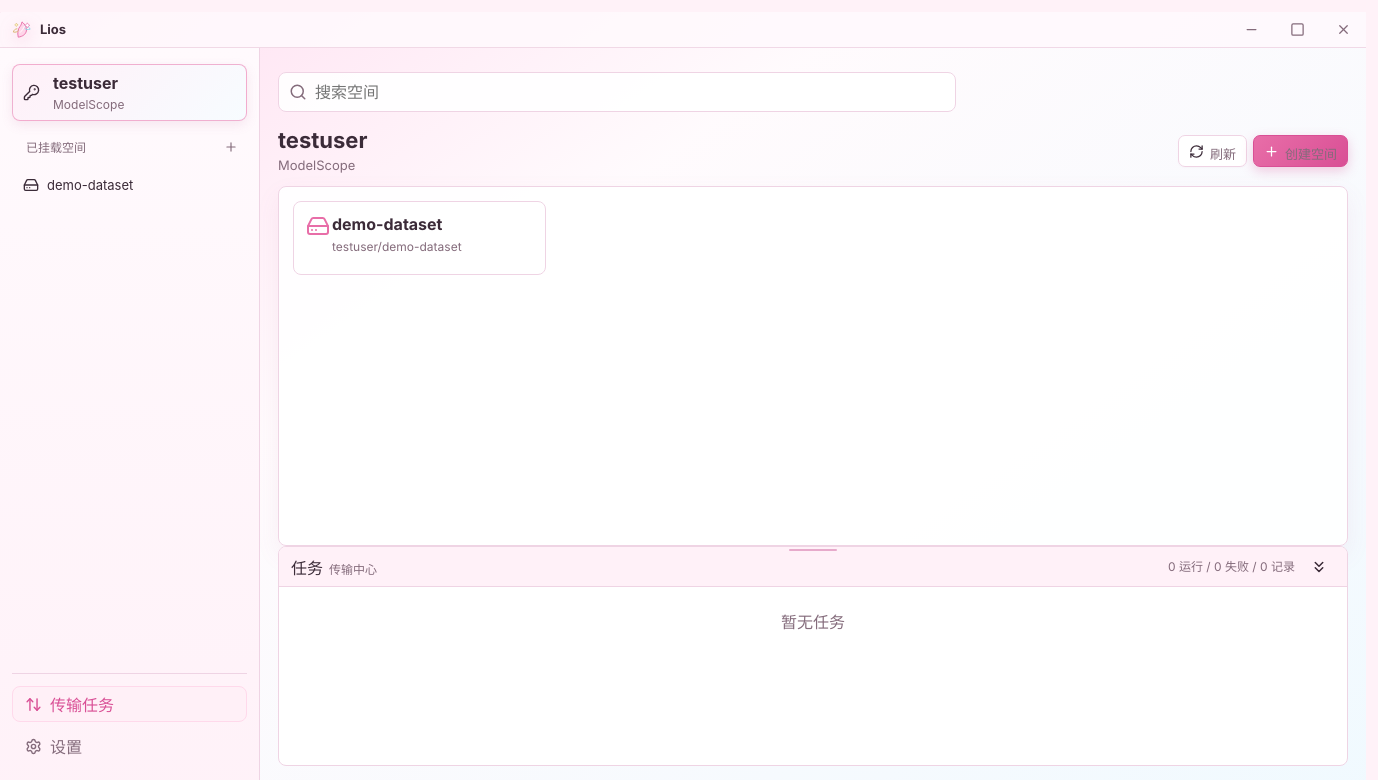
Test: Catalog reload fallback › falls back to root folder when current folder no longer exists after reload
Note: Enter Drive view
Click the button "demo-dataset".
click(128, 185)  # box [12,167,245,203]
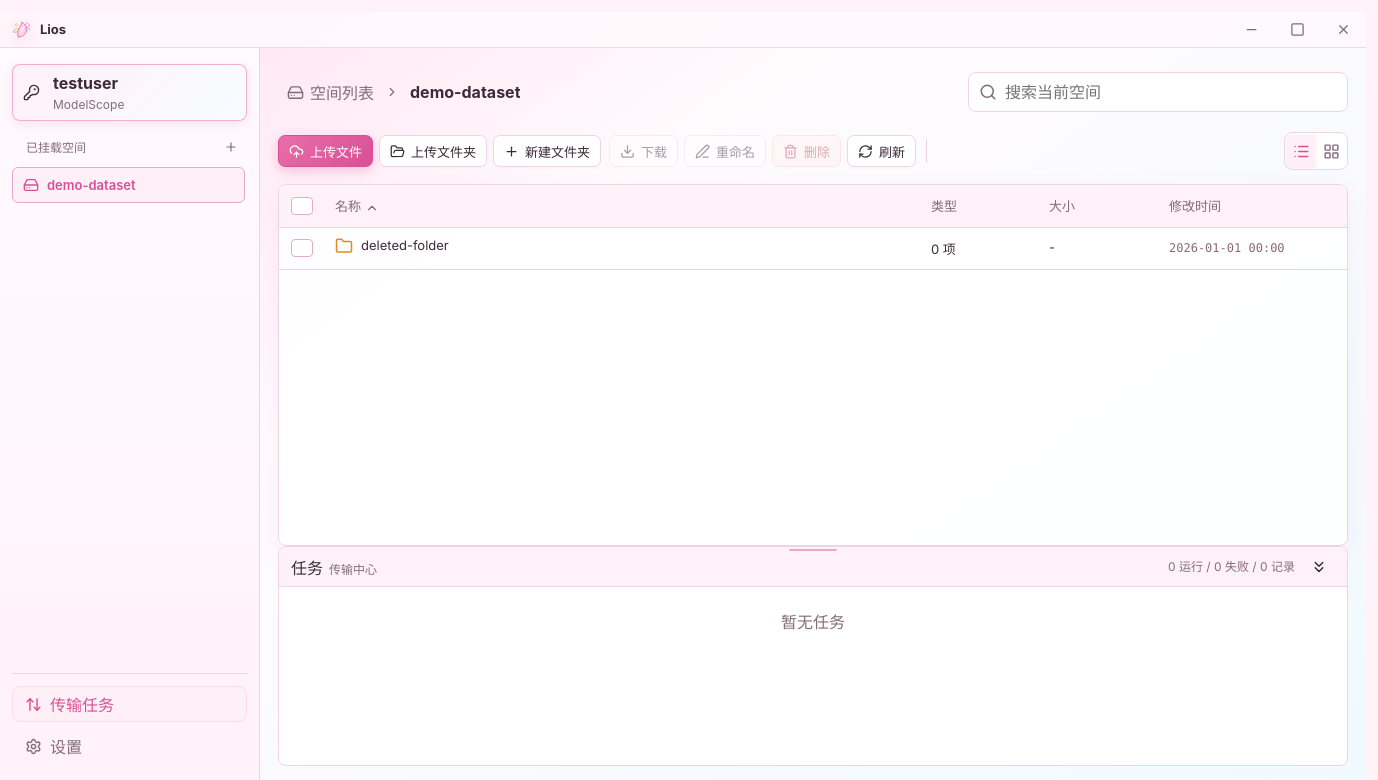
Result: the text "deleted-folder" is shown
Note: Enter the folder that will be deleted
Double-click the text "deleted-folder".
double_click(405, 246)  # box [361,238,449,254]
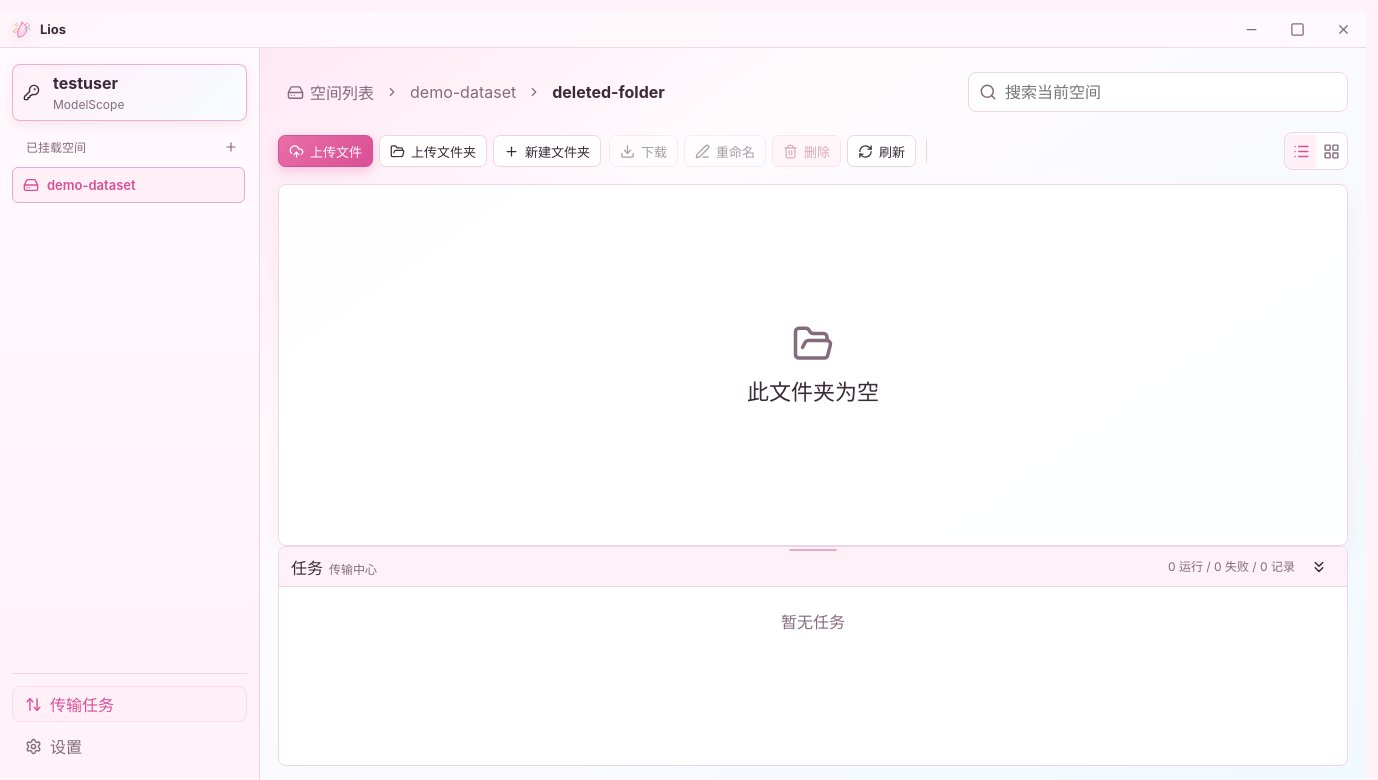
Result: the heading "此文件夹为空" is shown at [747,375,879,407]
Note: Trigger reload via the toolbar Refresh button
Click the button "刷新".
click(882, 151)  # box [847,135,916,167]
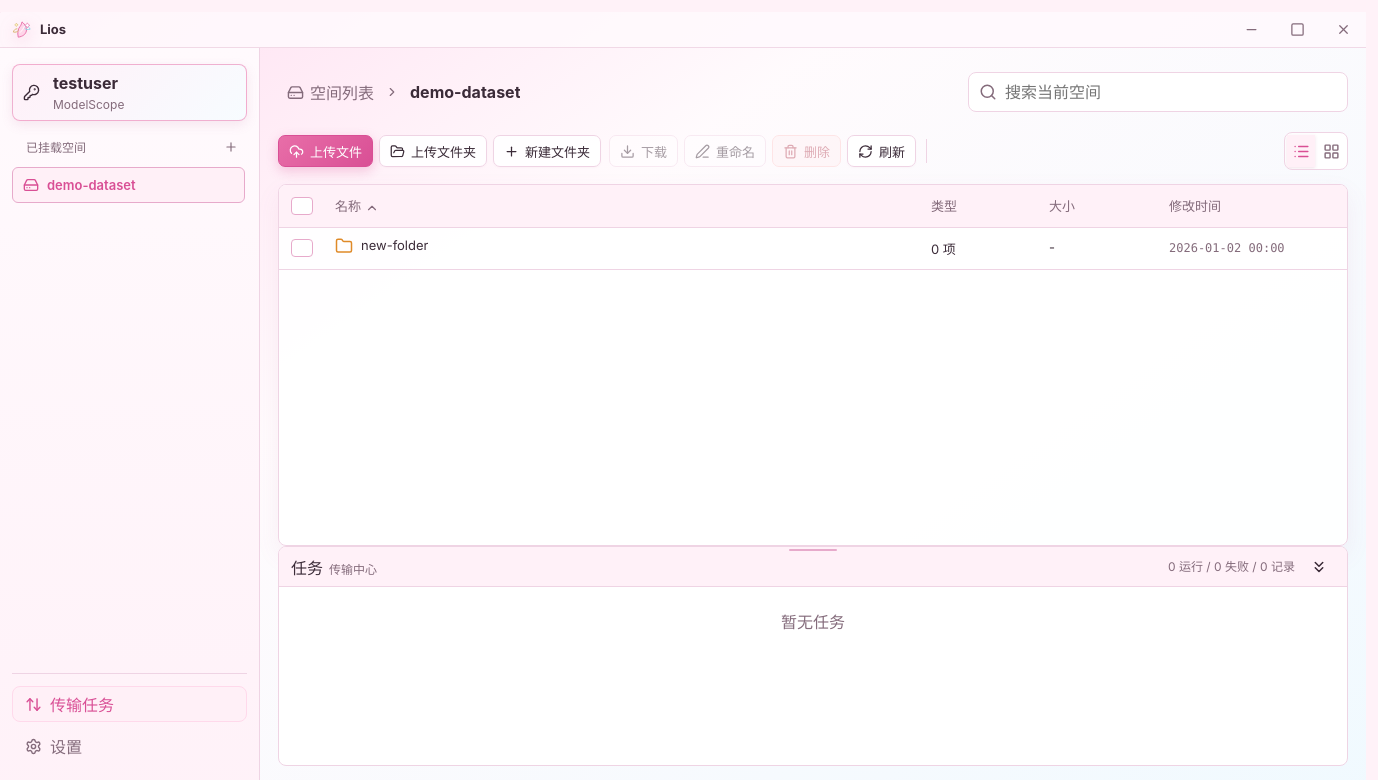
Result: the text "new-folder" is shown at [361,238,428,254]
